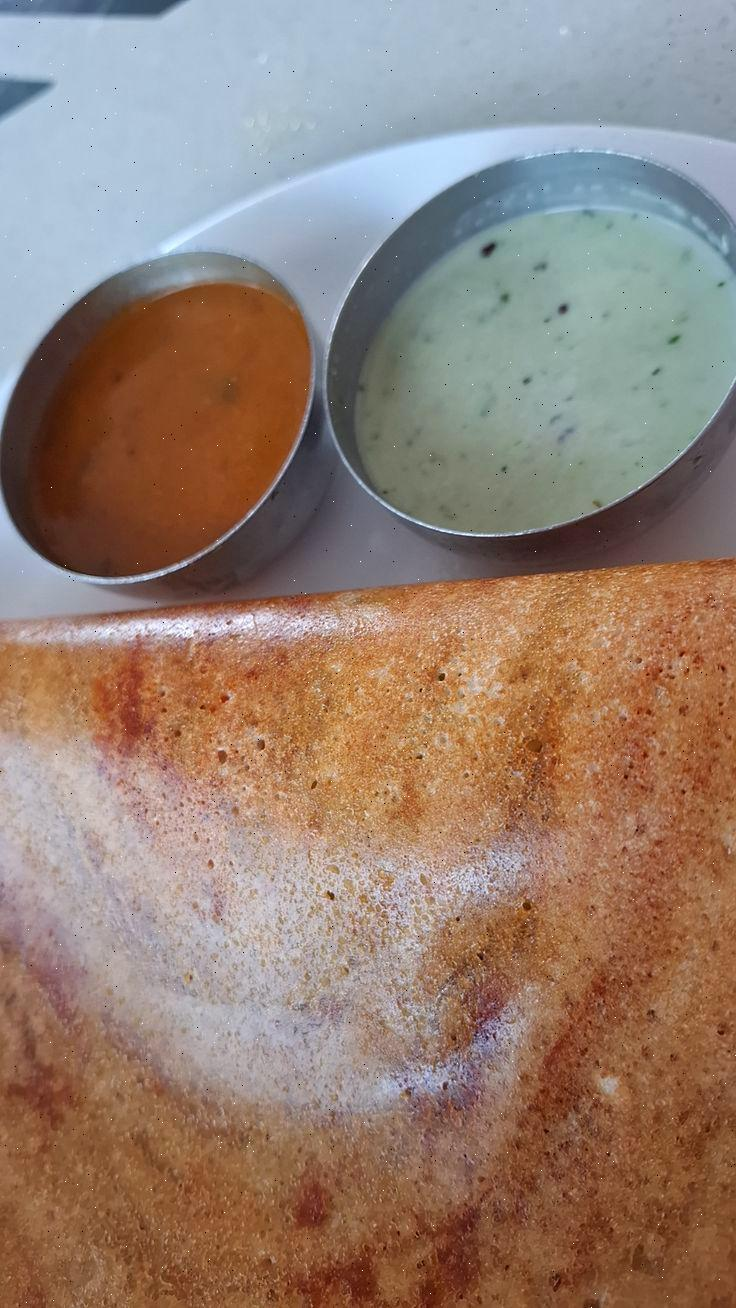dosa: (24, 622, 736, 1308)
